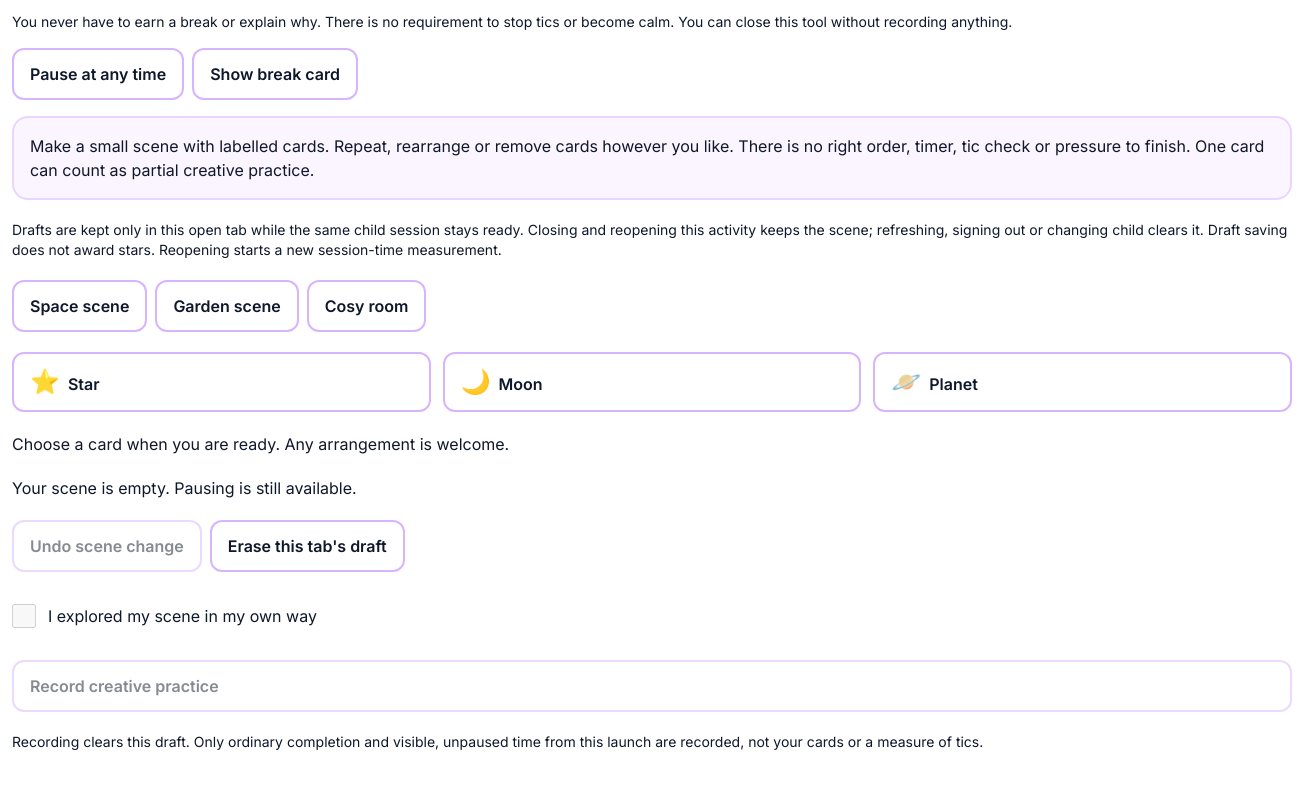
tourettes-flex-flow allows a break immediately but opening or waiting never awards progress
Check: the checkbox is disabled, box [12,604,36,628]
Step 1. Click the button "Show break card" → (275, 74), box [192,48,358,100]
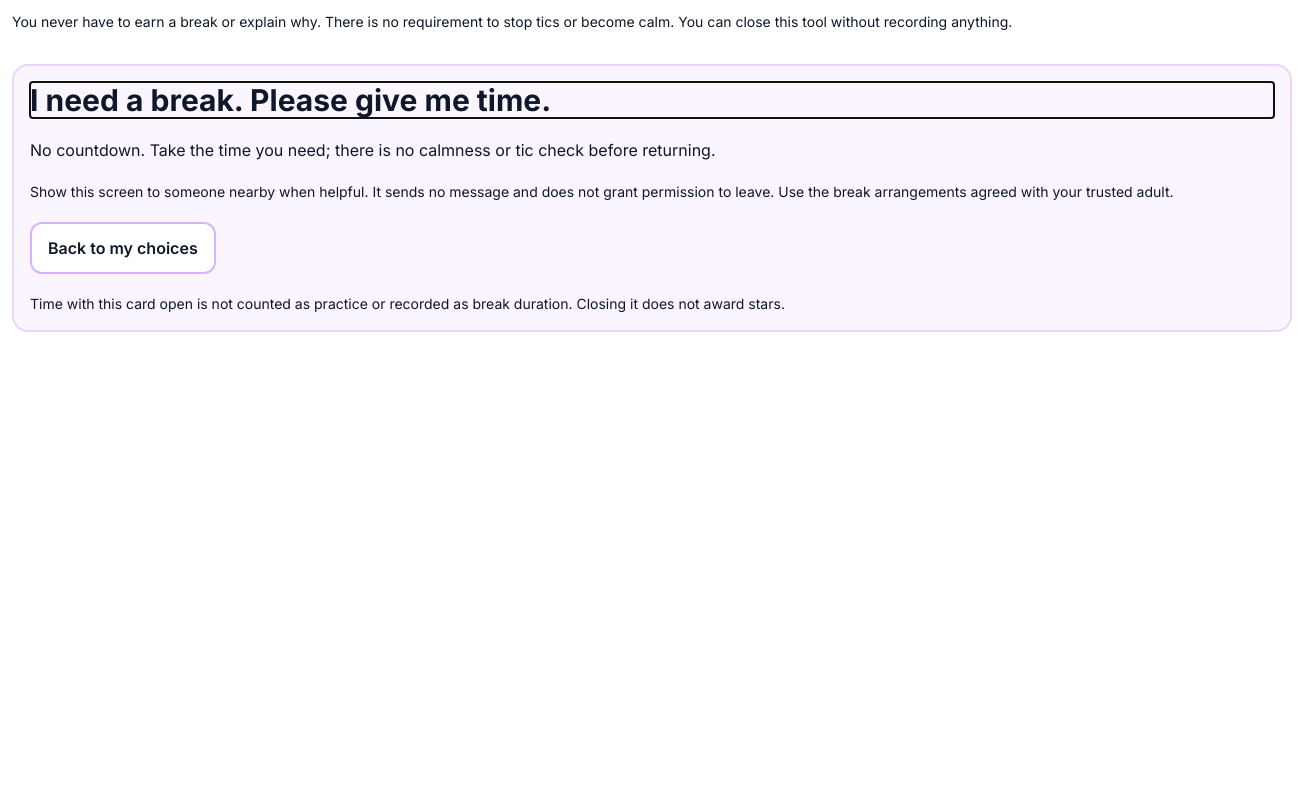
Check: the element named "Break support card" is shown, box [12,64,1292,332]
